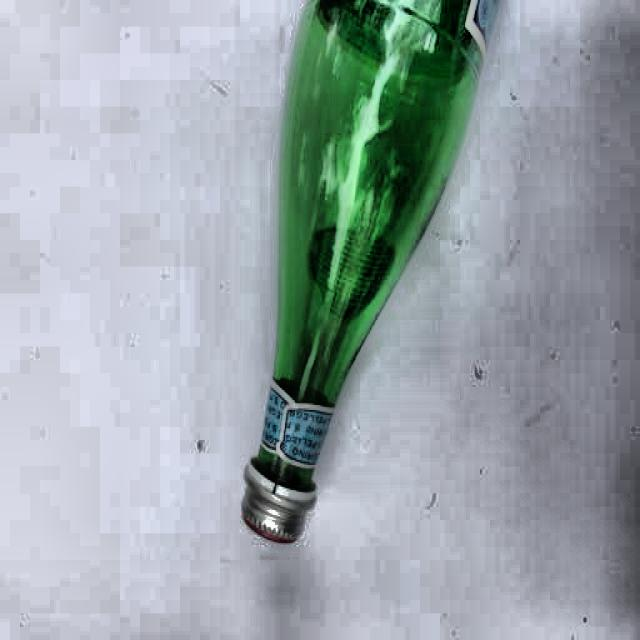glass: (257, 0, 491, 553)
